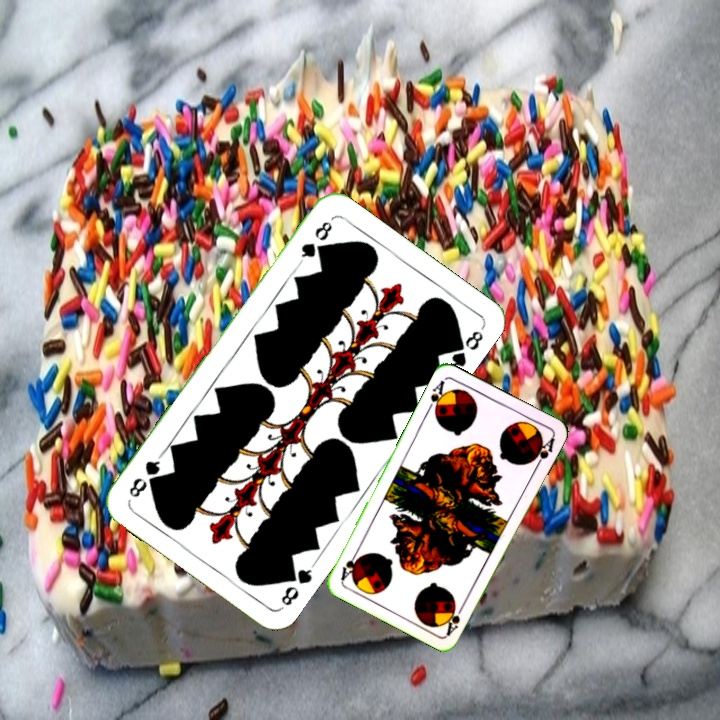G8: (277, 559, 318, 611), (295, 217, 335, 266)
SA: (423, 376, 450, 417), (442, 599, 468, 638)
